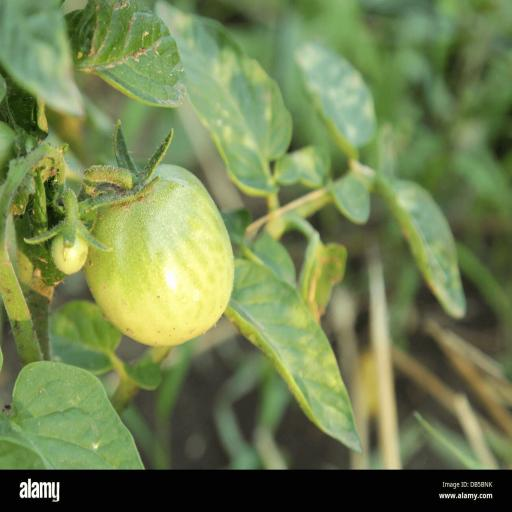Mosaic Virus: (150, 0, 298, 199), (222, 254, 364, 454), (286, 23, 380, 163)
